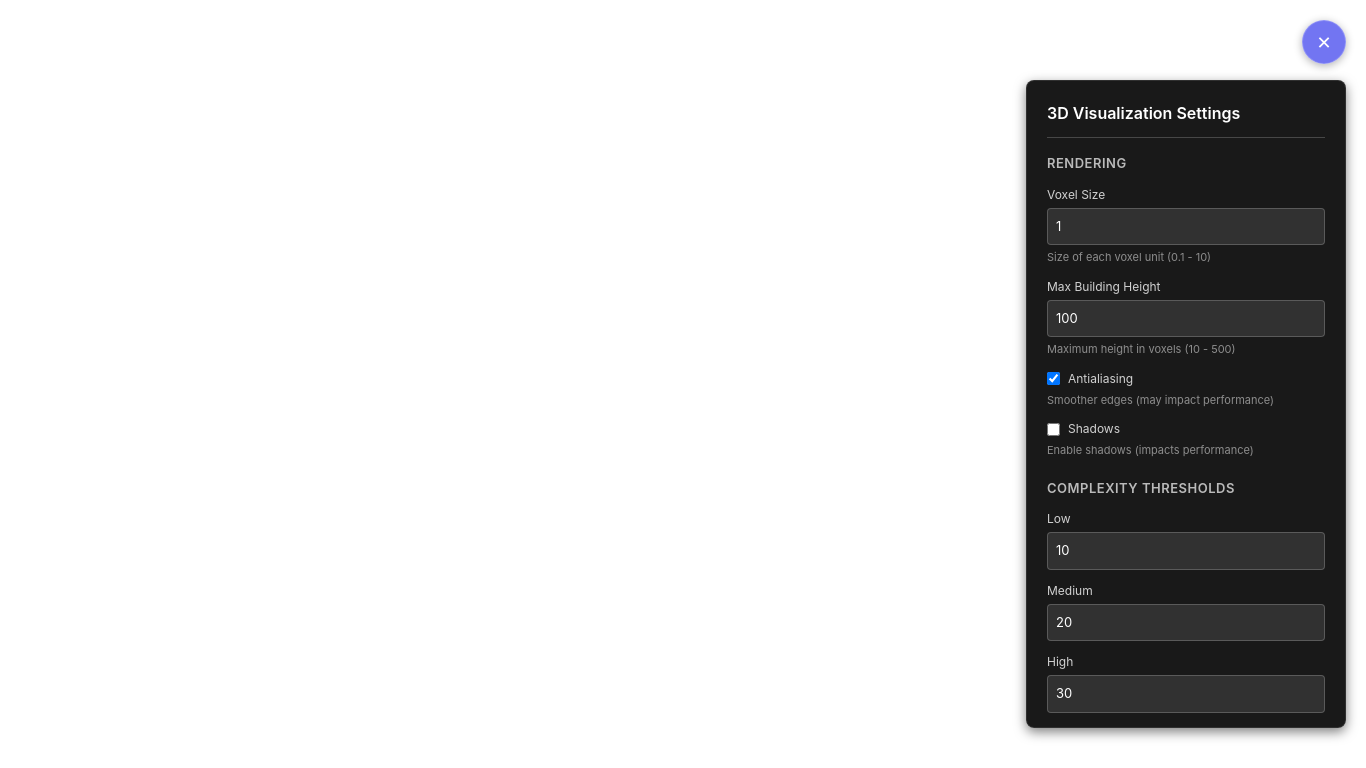
ConfigPanel › Color Legend › should update color legend when thresholds change
The width and height of the screenshot is (1366, 768).
// Change LOW threshold
Replace the text in the number field labelled "Low" with "15" at (1186, 551), box top-left (1047, 532), bottom-right (1325, 570)
(page scrolled)
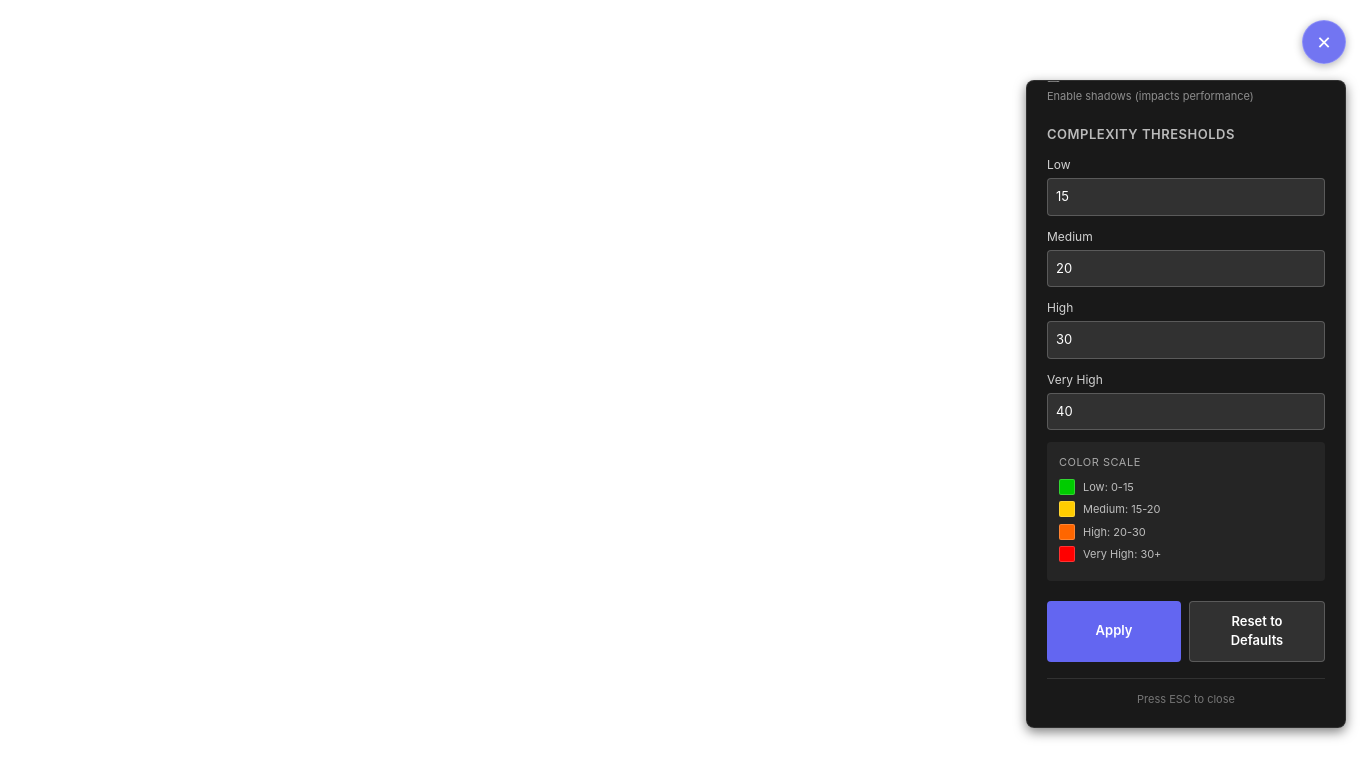
Result: the text "Low: 0-15" is shown at top-left (1083, 478), bottom-right (1134, 495)
